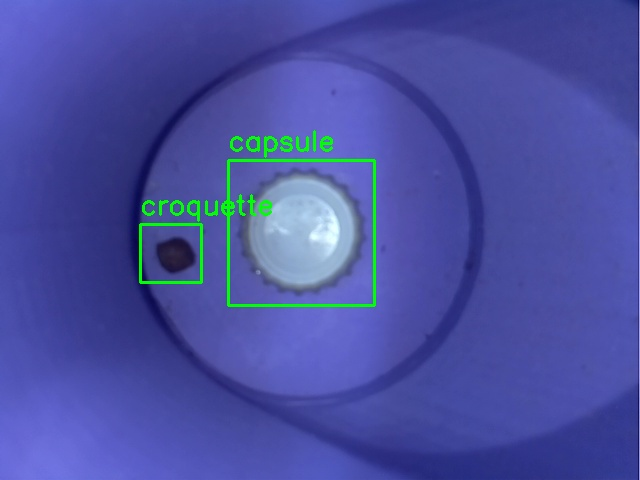capsule: (228, 160, 374, 305)
croquette: (140, 224, 201, 282)
